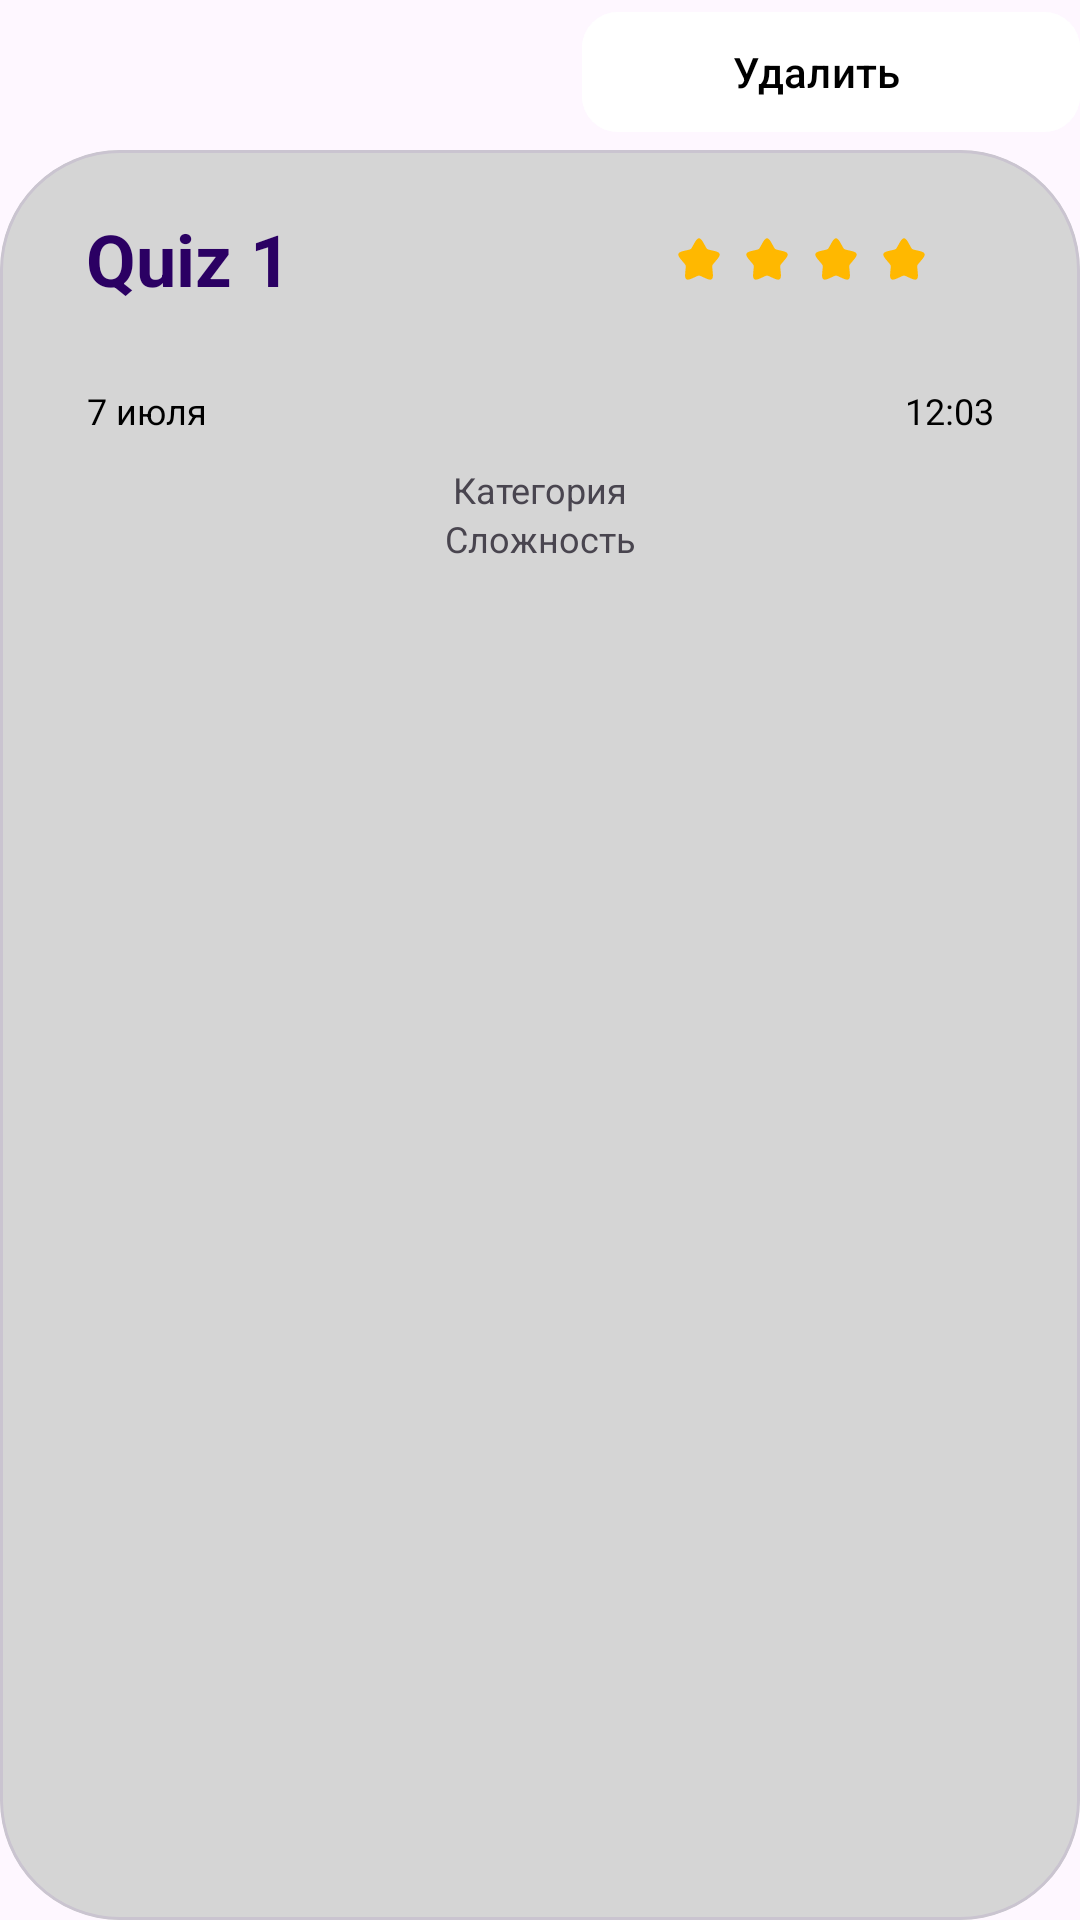

Where to tap for icons on this 1080*1920 app screen, as [x,y]:
star right: [699,259], [767,259], [836,259], [904,259]
